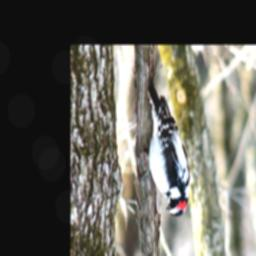Woodpecker: (142, 74, 193, 216)
